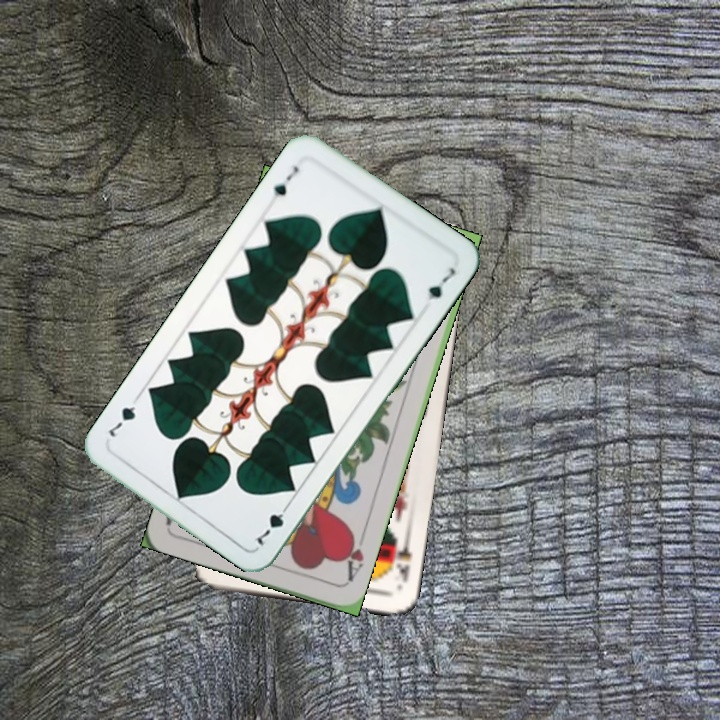G7: (251, 498, 293, 548), (269, 162, 302, 200)
HA: (339, 528, 369, 586)
SK: (387, 532, 414, 591)
